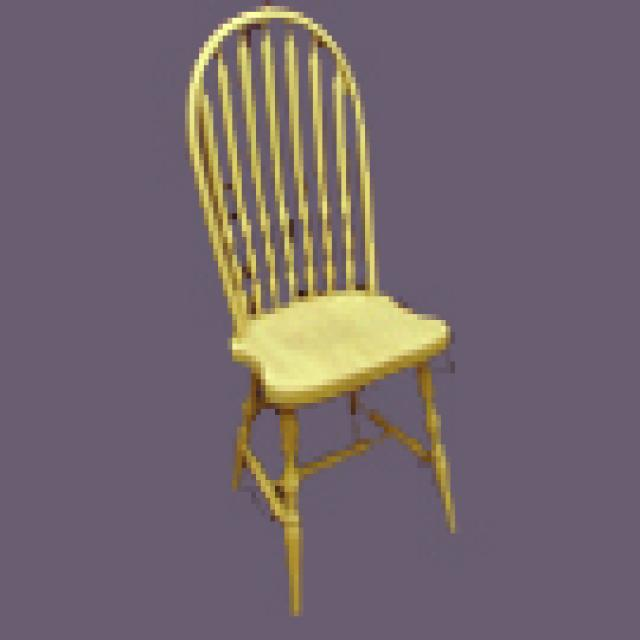chair: (180, 0, 455, 616)
